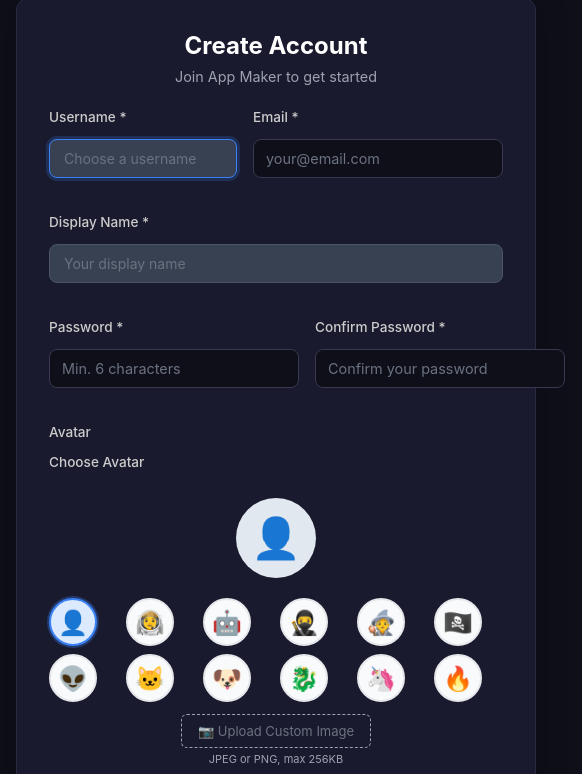
Test: RegisterView › shows validation error for short username
Type "ab" into the field with test id "register-username".
click(143, 158); type("ab")  # box [49,139,237,178]
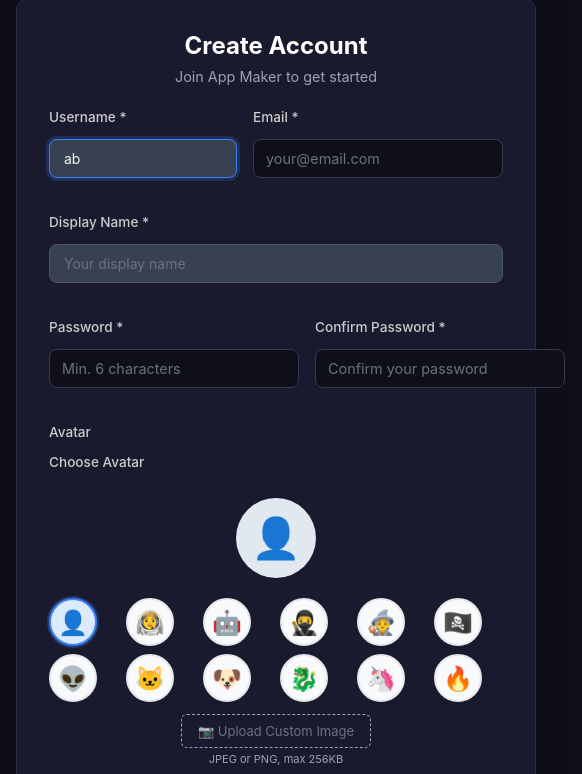
Type "test@test.com" into the field with test id "register-email".
click(378, 158); type("test@test.com")  # box [253,139,503,178]
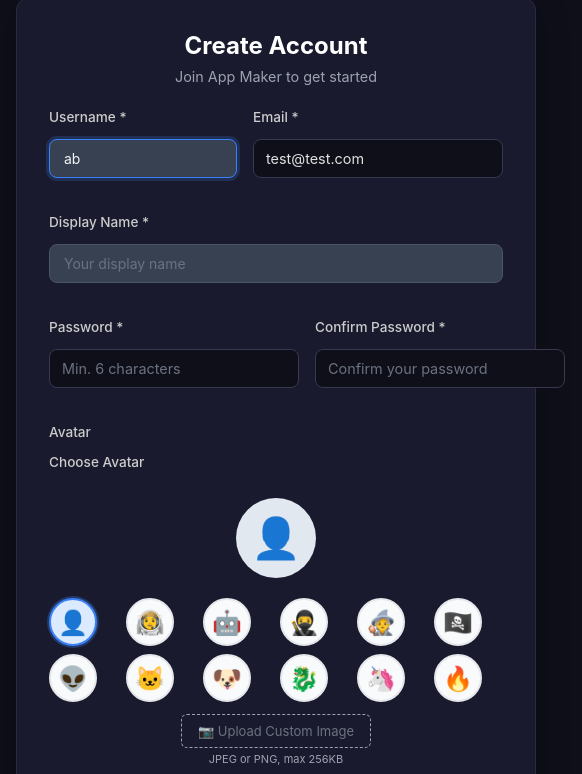
Type "Test" into the field with test id "register-displayname".
click(276, 264); type("Test")  # box [49,244,503,283]
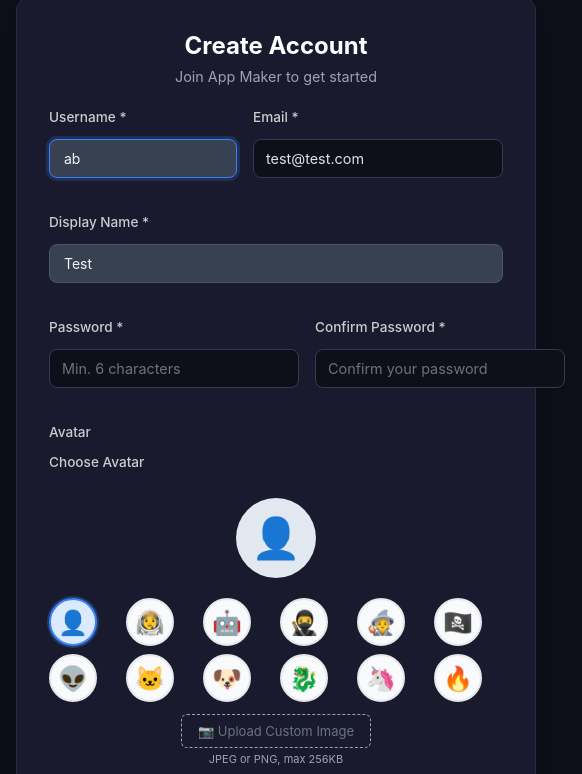
Type "password123" into the password field with test id "register-password".
click(174, 368); type("password123")  # box [49,349,299,388]
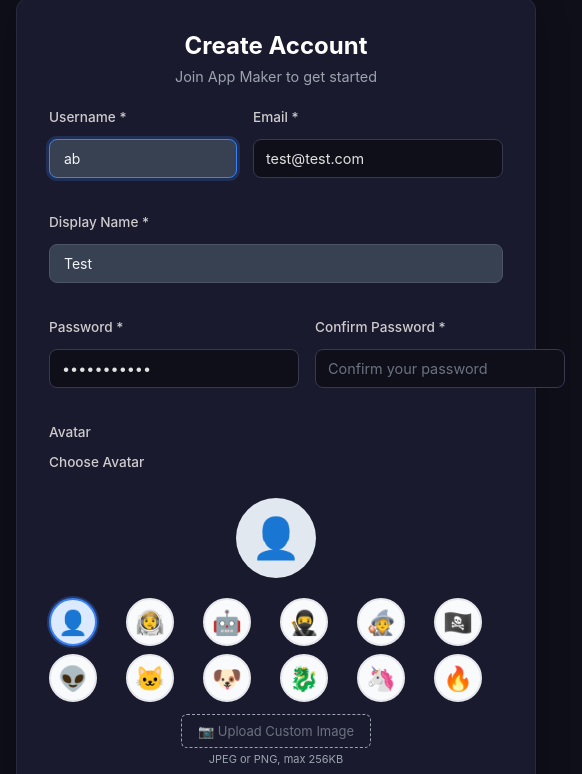
Type "password123" into the password field with test id "register-confirm-password".
click(440, 368); type("password123")  # box [315,349,565,388]
(page scrolled)
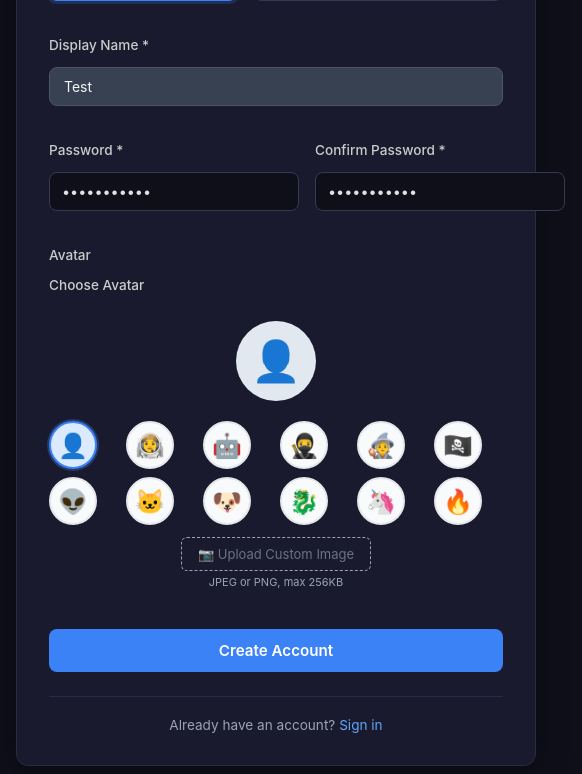
Click the button with test id "register-submit".
click(276, 650)  # box [49,629,503,672]
(page scrolled)
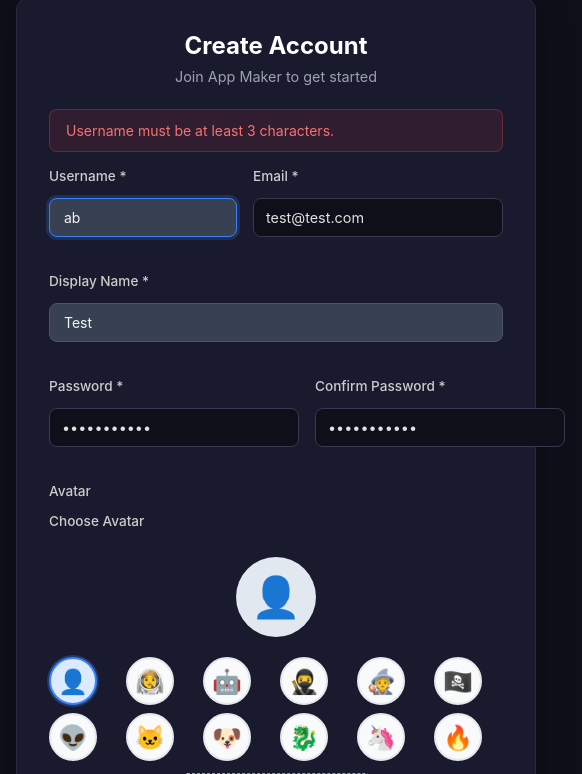
expect the message with test id "register-error" shows "at least 3 characters": met, box [66,122,334,139]
